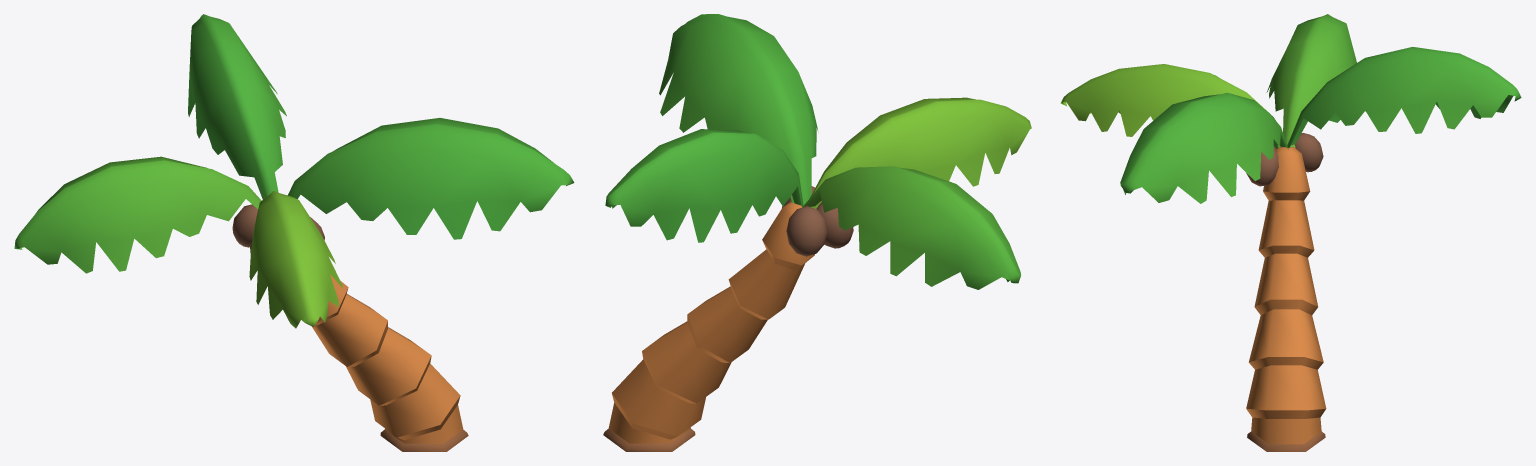
File: Palm_2.FBX
The picture shows the model from 3 angles, left to right: view 1: azimuth 30°, elevation 25°; view 2: azimuth 150°, elevation 25°; view 3: azimuth 270°, elevation 25°; orthographic projection. The views are drawn at different scales.
Parts seen in each view (by area): view 1: Palm_2_1, Palm_2_4, Palm_2_3, Palm_2_5; view 2: Palm_2_1, Palm_2_4, Palm_2_3, Palm_2_2, Palm_2_5; view 3: Palm_2_1, Palm_2_4, Palm_2_3, Palm_2_2, Palm_2_5.
Boxes of the visible parts, x1,y1,x2,y2 form: Palm_2_1: [14, 14, 574, 328]; Palm_2_4: [346, 327, 460, 440]; Palm_2_3: [312, 294, 387, 366]; Palm_2_5: [380, 405, 468, 451]; Palm_2_1: [605, 14, 1031, 289]; Palm_2_4: [612, 321, 731, 439]; Palm_2_3: [687, 286, 767, 363]; Palm_2_2: [728, 249, 804, 319]; Palm_2_5: [603, 402, 695, 451]; Palm_2_1: [1060, 14, 1521, 203]; Palm_2_4: [1246, 309, 1326, 418]; Palm_2_3: [1254, 253, 1318, 314]; Palm_2_2: [1258, 200, 1314, 257]; Palm_2_5: [1247, 417, 1325, 451].
Size of the model in its own units: 516 by 417 by 525.
1 material, 1 textured.
